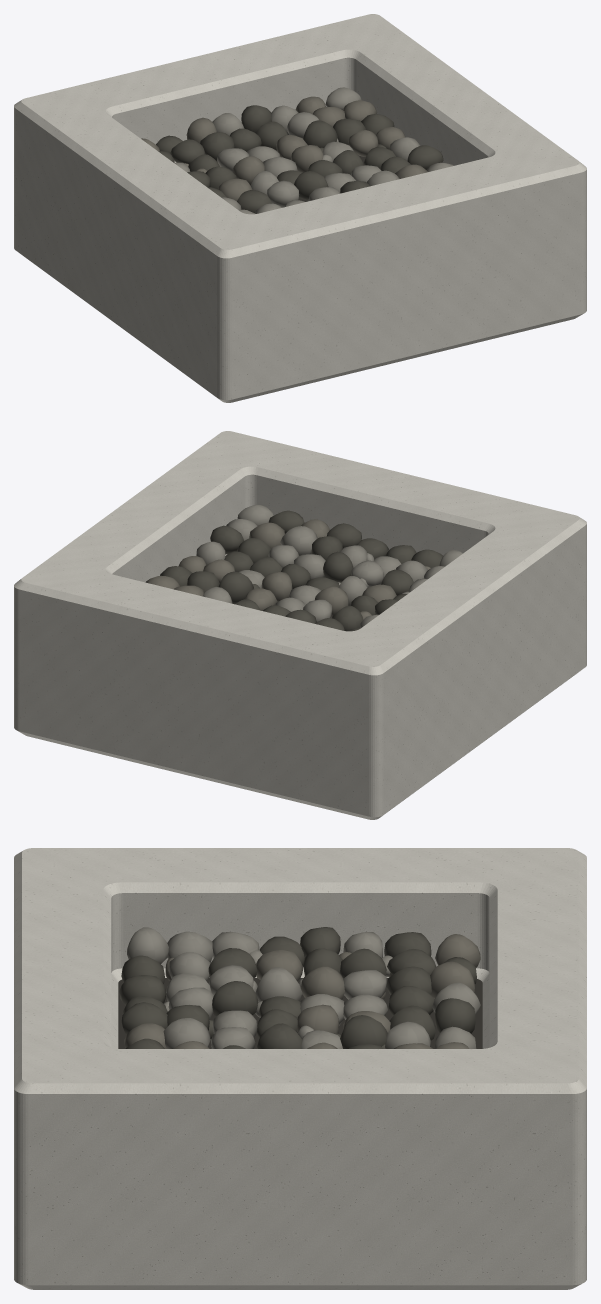
Rendered from concrete-fire-pit.glb.
The picture shows the model from 3 angles, top to bottom: view 1: azimuth 30°, elevation 25°; view 2: azimuth 150°, elevation 25°; view 3: azimuth 270°, elevation 25°; orthographic projection. The views are drawn at different scales.
Parts seen in each view (by area): view 1: light_cast_concrete, charcoal_stones, ash_grey_stones, warm_grey_stones; view 2: light_cast_concrete, charcoal_stones, ash_grey_stones, warm_grey_stones; view 3: light_cast_concrete, charcoal_stones, ash_grey_stones, warm_grey_stones, recessed_stone_bed.
Part boxes in pixels (box(x1,y1,x2,y2)): light_cast_concrete: box(14, 14, 586, 402); charcoal_stones: box(156, 105, 443, 212); ash_grey_stones: box(174, 87, 453, 214); warm_grey_stones: box(141, 96, 427, 201); light_cast_concrete: box(14, 431, 586, 819); charcoal_stones: box(160, 510, 442, 631); ash_grey_stones: box(196, 504, 462, 627); warm_grey_stones: box(145, 519, 430, 619); light_cast_concrete: box(14, 848, 586, 1289); charcoal_stones: box(119, 927, 476, 1048); ash_grey_stones: box(127, 927, 480, 1048); warm_grey_stones: box(124, 934, 480, 1048); recessed_stone_bed: box(118, 978, 482, 1048).
Size of the model in its own units: 1 by 0.4 by 1.
Materials: 5 (1 with a texture image).
